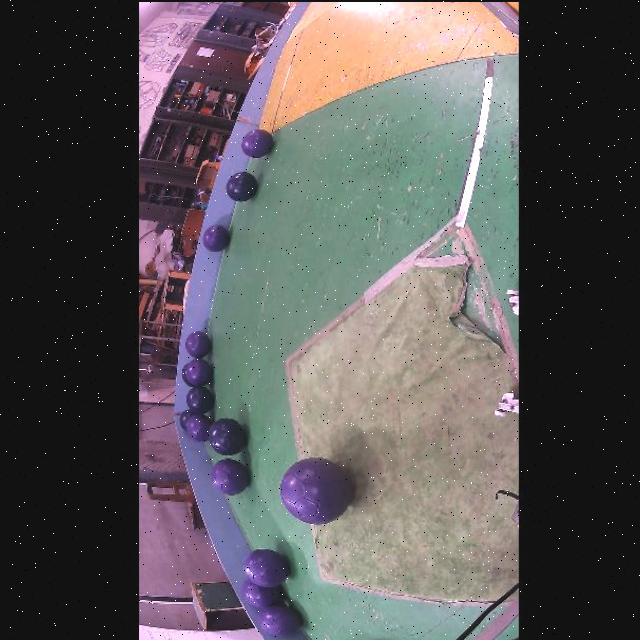B: (207, 416, 245, 455), (225, 170, 257, 200), (179, 408, 194, 430)
P: (279, 456, 353, 523), (242, 548, 289, 587), (209, 457, 248, 494), (258, 604, 302, 636), (241, 579, 282, 606), (241, 127, 273, 156), (184, 357, 212, 385), (184, 329, 211, 357), (186, 385, 213, 412), (201, 224, 229, 250), (186, 412, 212, 440)
